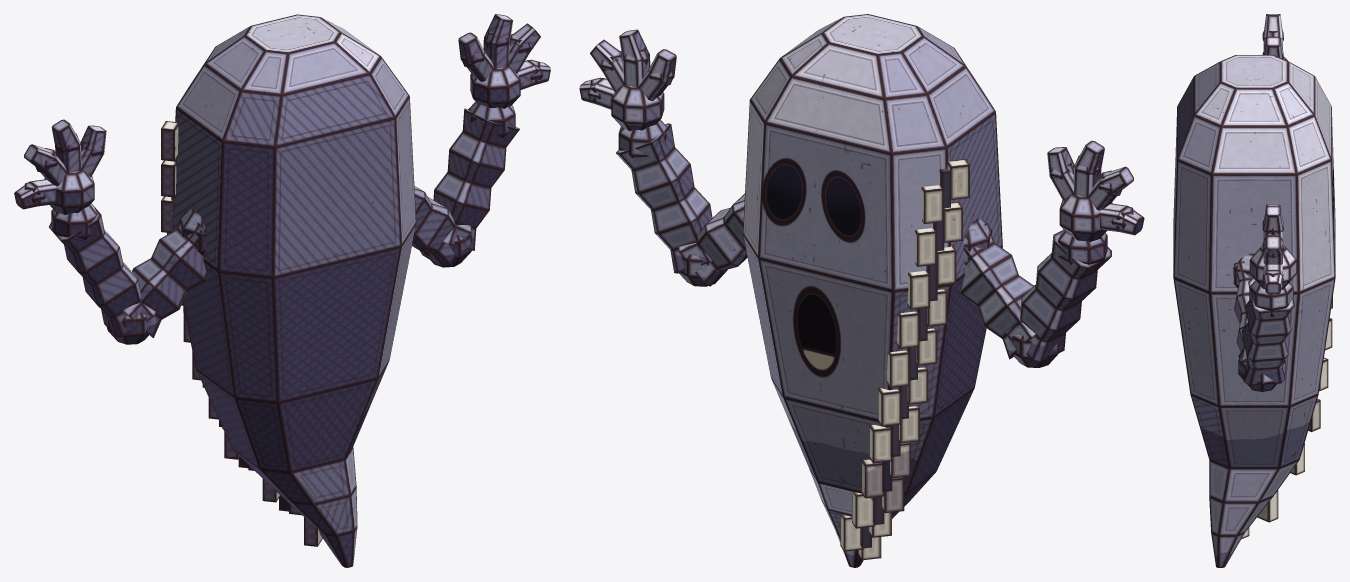
File: ghost_static.obj
3 views of the same model, side by side, from view 1: azimuth 30°, elevation 25°; view 2: azimuth 150°, elevation 25°; view 3: azimuth 270°, elevation 25° (orthographic). The views are drawn at different scales.
Parts seen in each view (by area): view 1: GhostStatic; view 2: GhostStatic; view 3: GhostStatic.
Part boxes in pixels (x1,y1,x2,y2): GhostStatic: (14,14,550,567); GhostStatic: (579,14,1144,567); GhostStatic: (1173,14,1335,567).
Size of the model in its own units: 1.47 by 1.4 by 0.43.
Materials: 1 (1 with a texture image).
